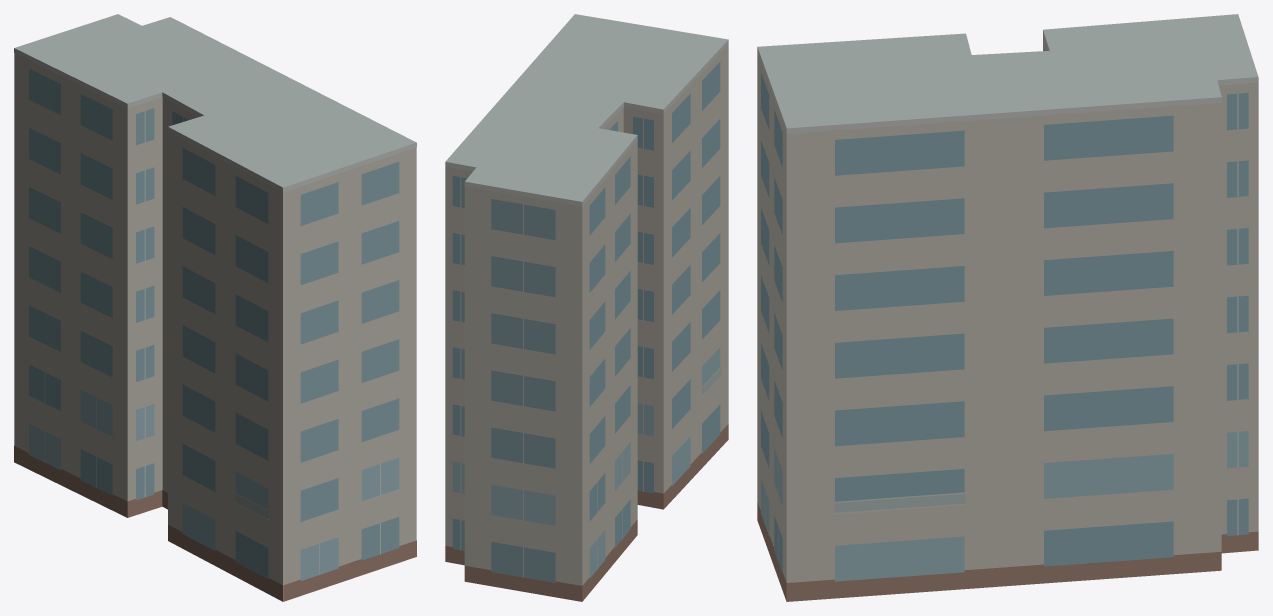
Rendered from survey-upis-32972961.glb.
3 renders of one model, left to right at view 1: azimuth 30°, elevation 25°; view 2: azimuth 150°, elevation 25°; view 3: azimuth 270°, elevation 25°, orthographic. The views are drawn at different scales.
Parts seen in each view (by area): view 1: survey-upis-32972961.tmp; view 2: survey-upis-32972961.tmp; view 3: survey-upis-32972961.tmp.
Part boxes in pixels (left/top/right/bottom): survey-upis-32972961.tmp: left=14, top=14, right=416, bottom=601; survey-upis-32972961.tmp: left=445, top=14, right=728, bottom=601; survey-upis-32972961.tmp: left=757, top=14, right=1258, bottom=601.
Size of the model in its own units: 10.84 by 20.9 by 20.06.
